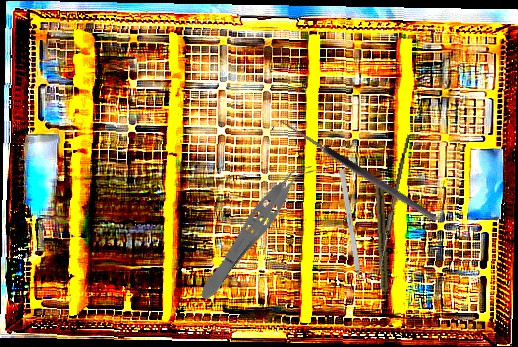Handpiece: (372, 180, 391, 305)
Hook Surgical: (270, 115, 440, 231), (338, 168, 365, 296)
Surgical Spoon: (377, 133, 411, 271)
Tissue Forceps: (192, 153, 318, 307)
